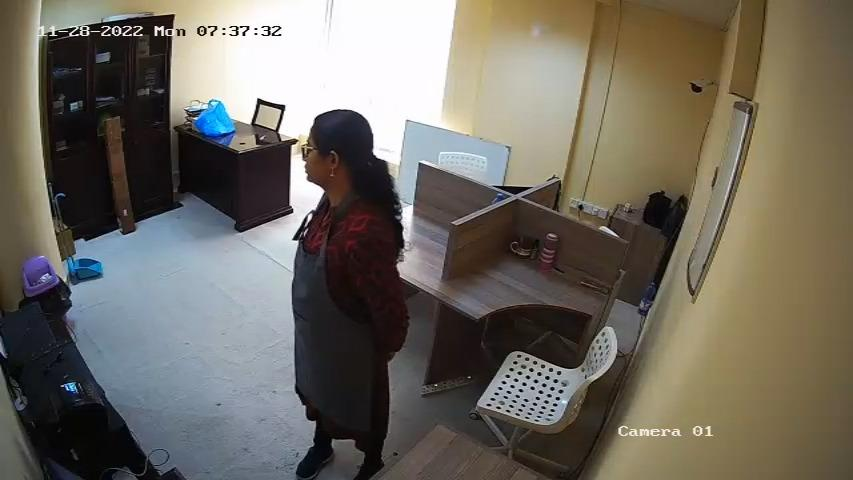apron: (287, 197, 377, 398)
